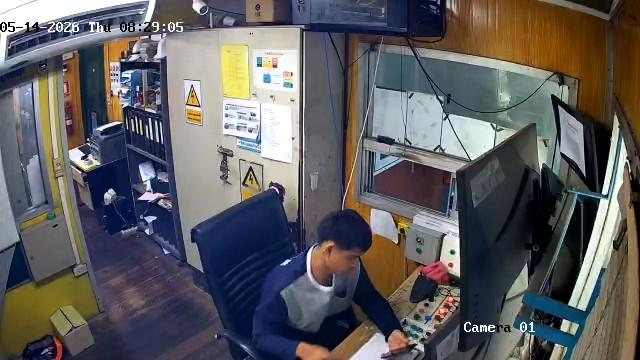Head: (317, 212, 372, 276)
People: (257, 210, 406, 360)
Phone: (380, 344, 418, 358)
